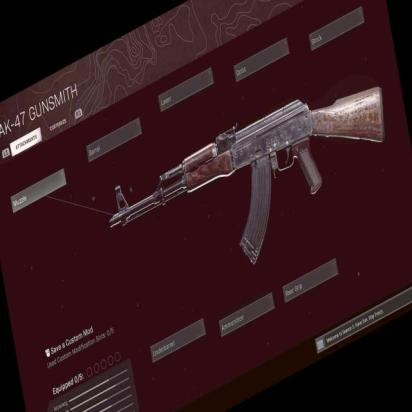Gun: (106, 30, 400, 330)
